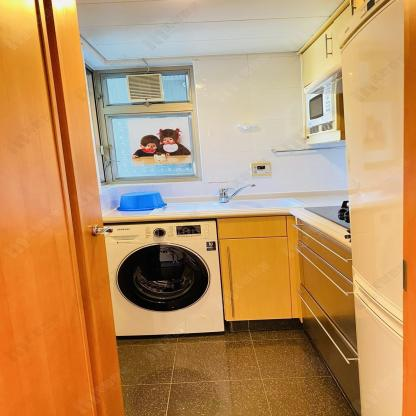Cupboard: (216, 216, 358, 416), (295, 0, 399, 89)
Exhaust Fan: (126, 75, 162, 100)
Faucet: (205, 183, 261, 202)
Fridge: (335, 0, 409, 416)
Microwave: (301, 76, 343, 137)
Sink: (147, 195, 312, 216)
Stove: (303, 203, 349, 228)
Washing Machine: (101, 219, 227, 339)
